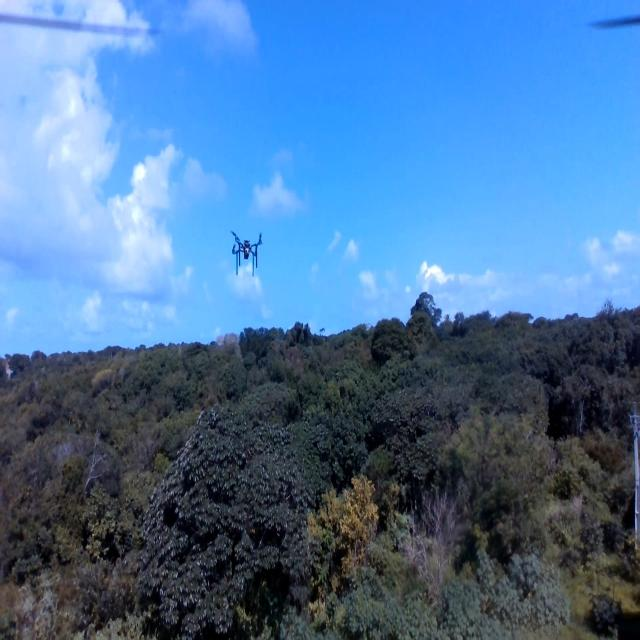-uav-: (223, 225, 270, 283)
